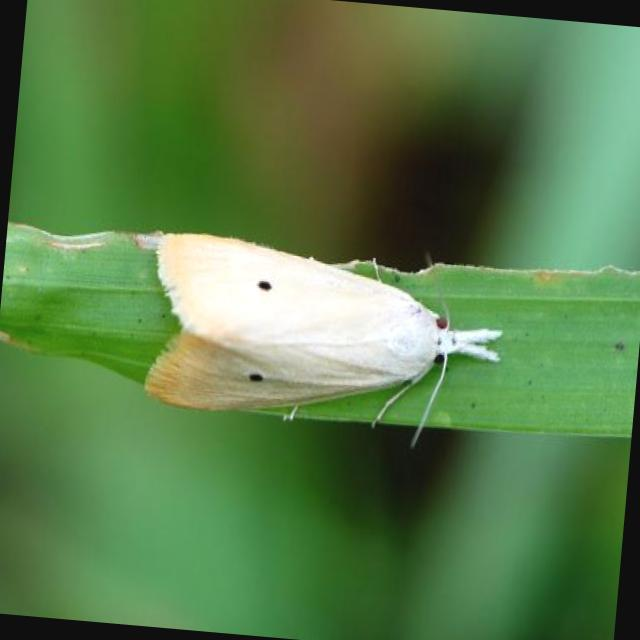stem borer: (134, 234, 500, 420)
